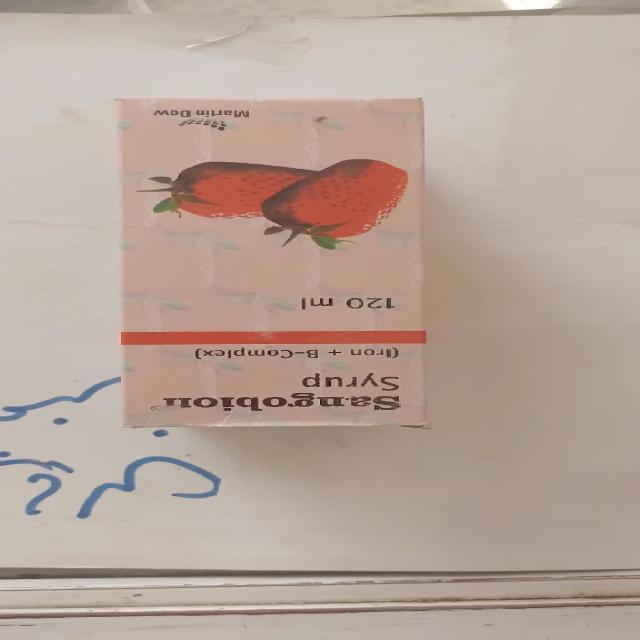drug-name: (161, 394, 405, 415)
